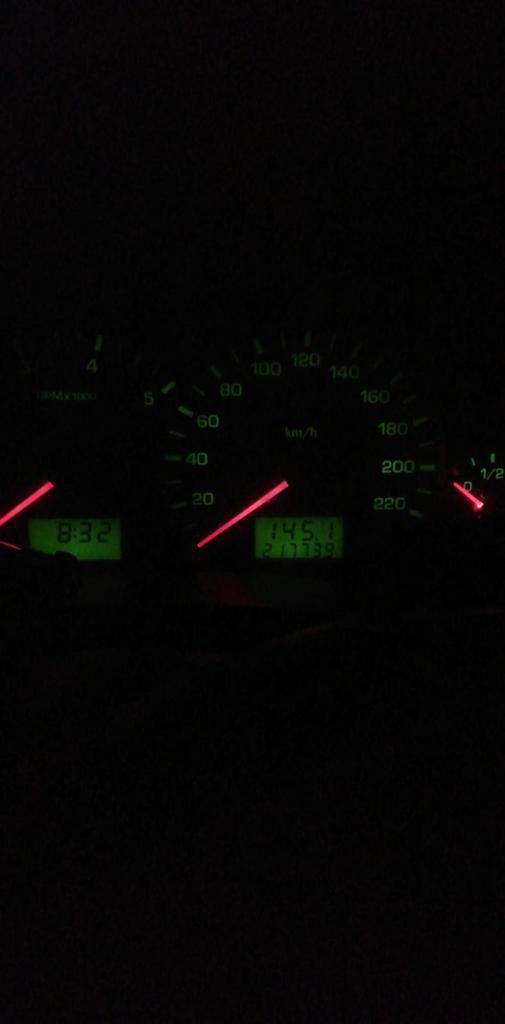,: (314, 536, 319, 541)
1: (327, 520, 334, 540), (270, 521, 276, 540), (280, 543, 285, 557)
2: (262, 542, 271, 558)
3: (312, 542, 321, 557)
4: (282, 521, 295, 540)
5: (301, 520, 314, 541)
7: (288, 542, 297, 557), (301, 542, 309, 556)
9: (324, 542, 334, 557)
odometer: (252, 515, 345, 561)
